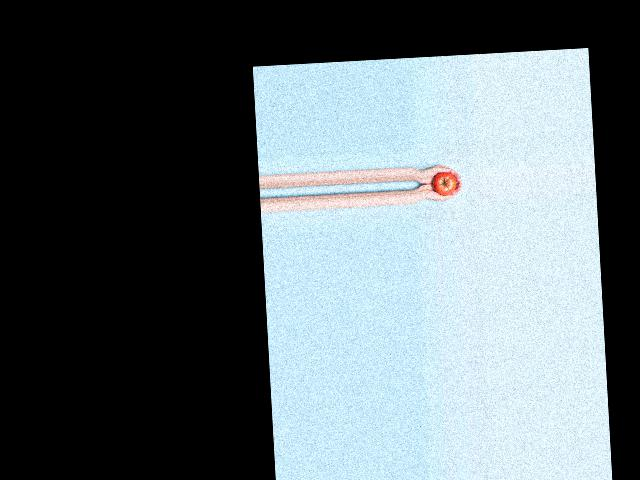tomato: (432, 171, 457, 195)
